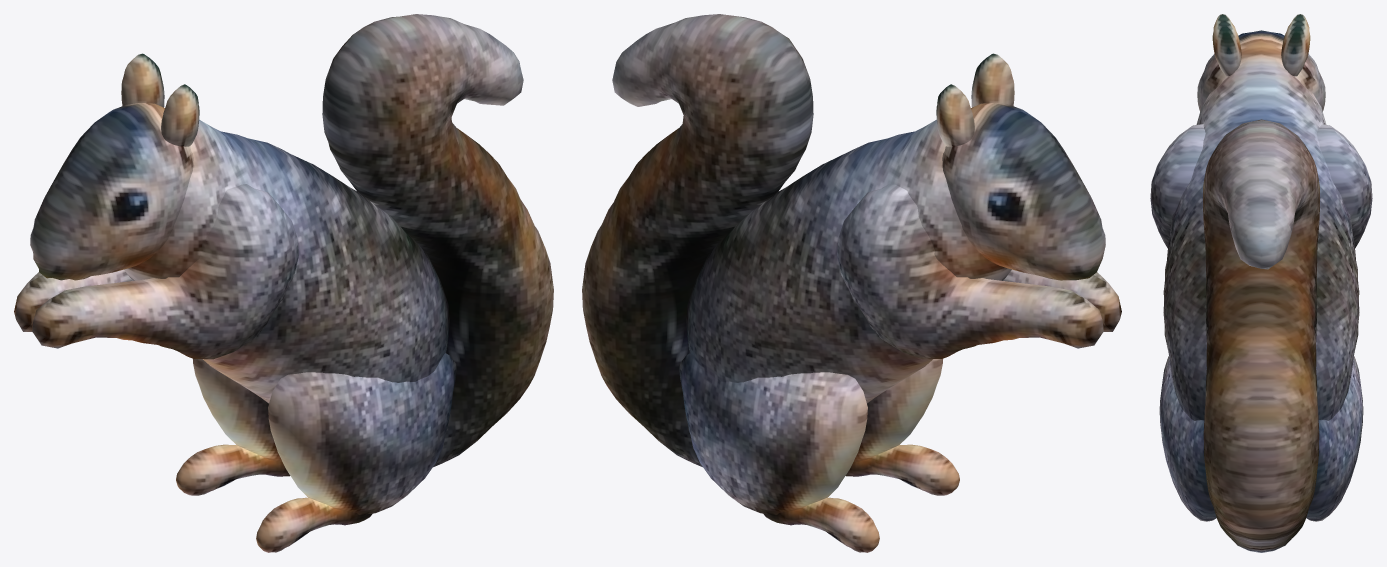
Rendered from squirel2.obj.
3 views of the same model, side by side, from view 1: azimuth 30°, elevation 25°; view 2: azimuth 150°, elevation 25°; view 3: azimuth 270°, elevation 25° (orthographic). The views are drawn at different scales.
Bounding box in the file's own units: 1.14 × 0.9865 × 0.4629.
